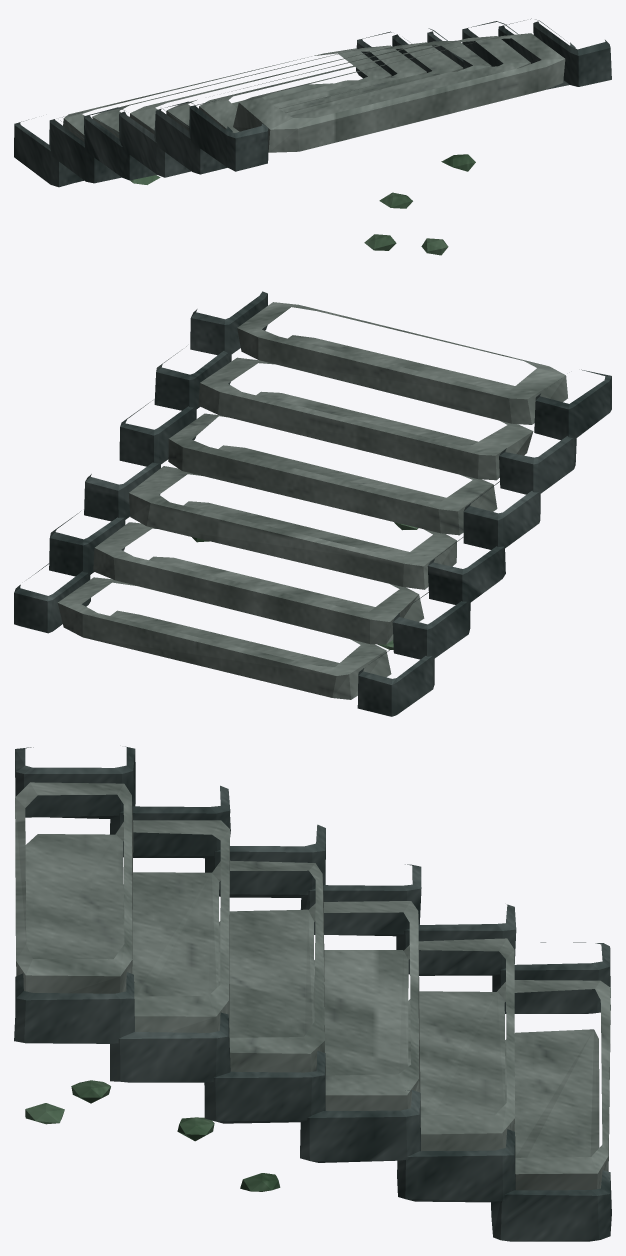
Rendered from 0374_stairs_24.glb.
3 renders of one model, top to bottom at view 1: azimuth 30°, elevation 25°; view 2: azimuth 150°, elevation 25°; view 3: azimuth 270°, elevation 25°, orthographic. The views are drawn at different scales.
Parts seen in each view (by area): view 1: stone, stone_dark, moss; view 2: stone, stone_dark; view 3: stone, stone_dark, moss.
Part boxes in pixels (x1,y1,x2,y2): stone: [63, 33, 565, 152]; stone_dark: [14, 18, 611, 187]; moss: [130, 154, 475, 255]; stone: [57, 302, 567, 699]; stone_dark: [14, 291, 611, 716]; stone: [15, 782, 610, 1190]; stone_dark: [14, 746, 611, 1241]; moss: [25, 1080, 280, 1191].
Bounding box in the file's own units: 2.75 × 1.27 × 2.76.
3 materials, 3 textured.
